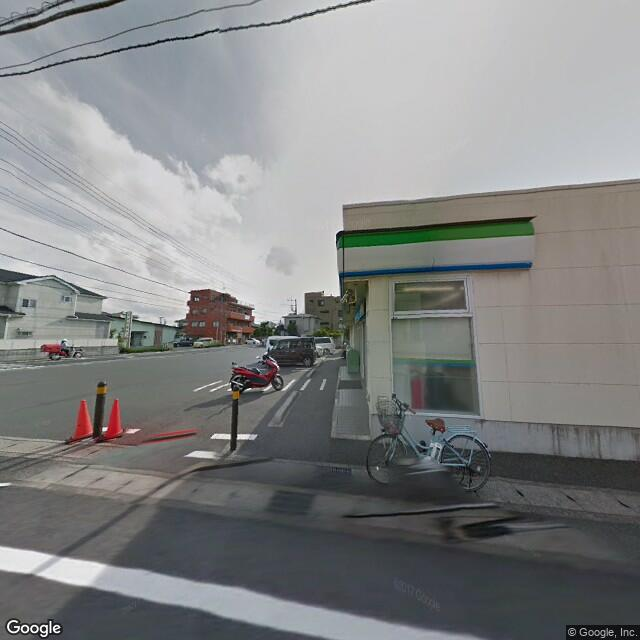family_mart: (337, 217, 536, 279)
